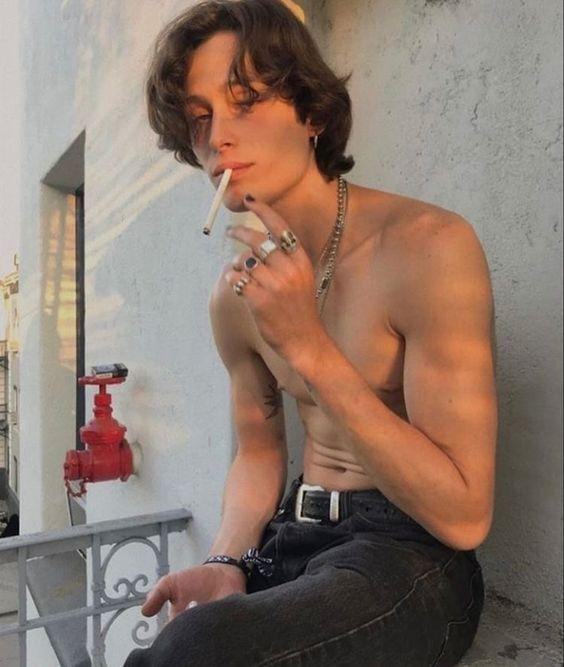cigarette: (202, 168, 233, 236)
